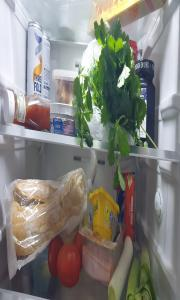Tomate: (56, 246, 80, 288), (48, 235, 64, 278), (74, 231, 82, 270)
